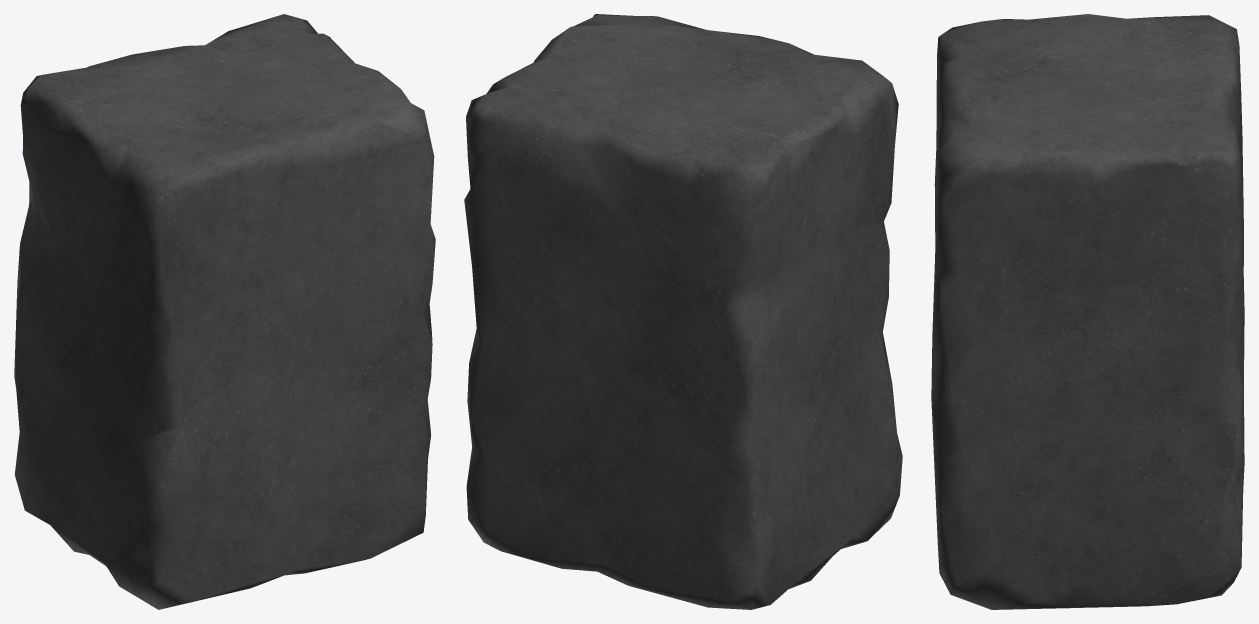
File: SM_ColumnSegment4.fbx
3 views of the same model, side by side, from view 1: azimuth 30°, elevation 25°; view 2: azimuth 150°, elevation 25°; view 3: azimuth 270°, elevation 25° (orthographic). The views are drawn at different scales.
Parts seen in each view (by area): view 1: SM_ColumnSegment4_LOD0; view 2: SM_ColumnSegment4_LOD0; view 3: SM_ColumnSegment4_LOD0.
Part boxes in pixels (<box>): SM_ColumnSegment4_LOD0: <box>14,14,435,609</box>; SM_ColumnSegment4_LOD0: <box>464,14,902,609</box>; SM_ColumnSegment4_LOD0: <box>931,14,1244,609</box>.
Bounding box in the file's own units: 132 × 119 × 191.
1 material, 1 textured.
